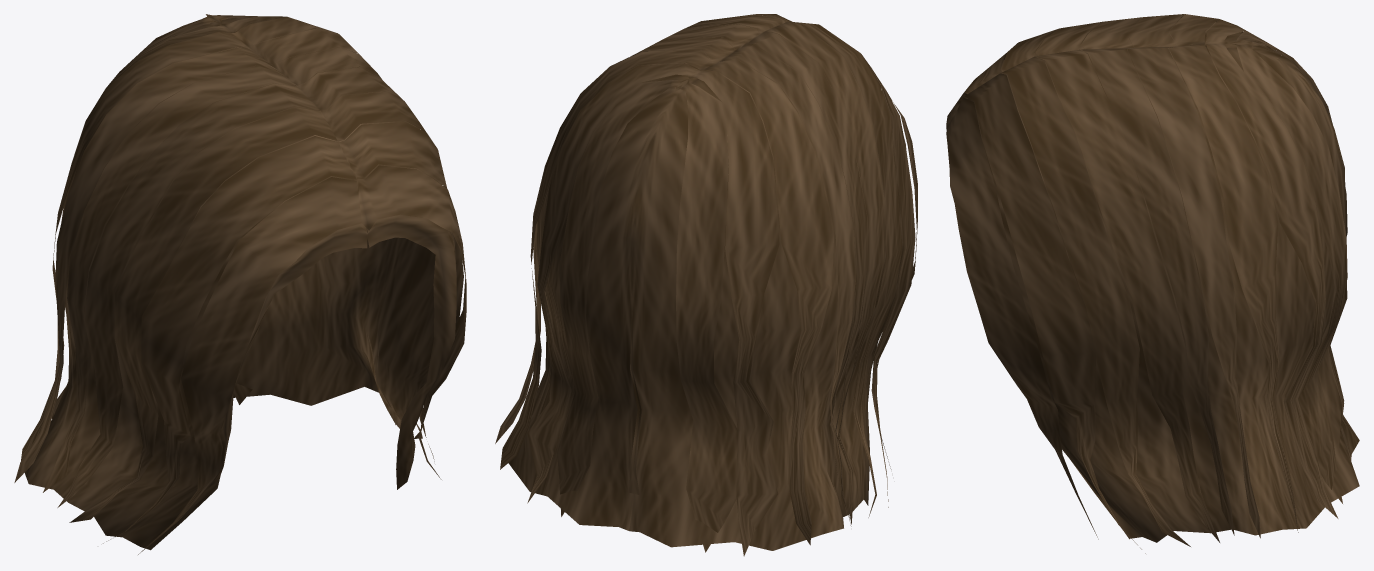
File: MaleHair2.fbx
3 views of the same model, side by side, from view 1: azimuth 30°, elevation 25°; view 2: azimuth 150°, elevation 25°; view 3: azimuth 270°, elevation 25° (orthographic). The views are drawn at different scales.
Visible parts, largest first — view 1: long01Mesh; view 2: long01Mesh; view 3: long01Mesh.
Boxes of the visible parts, x1,y1,x2,y2 form: long01Mesh: [14, 14, 466, 554]; long01Mesh: [495, 14, 917, 556]; long01Mesh: [946, 14, 1359, 553].
Bounding box in the file's own units: 2.23 × 2.58 × 2.18.
